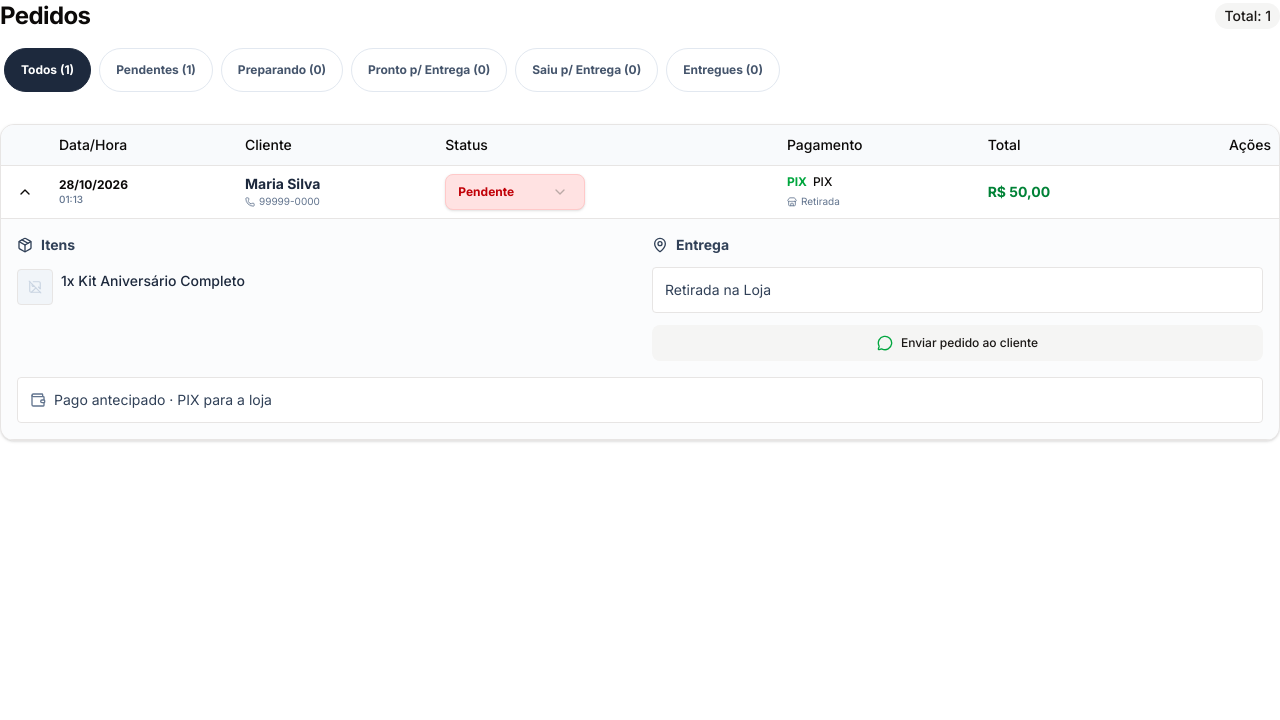
Scenario: OrdersTab — item do pedido abre produto do item (issue #73) › item composto sem produto único (CUSTOM_KIT) não quebra: abre um fallback com os componentes, sem tentar abrir o ProductInfoModal
Expected: the text "1x Kit Aniversário Completo" is shown, [61,272,245,288]
Click the button "1x Kit Aniversário Completo". click: (35, 286)
box: [13,266,624,312]
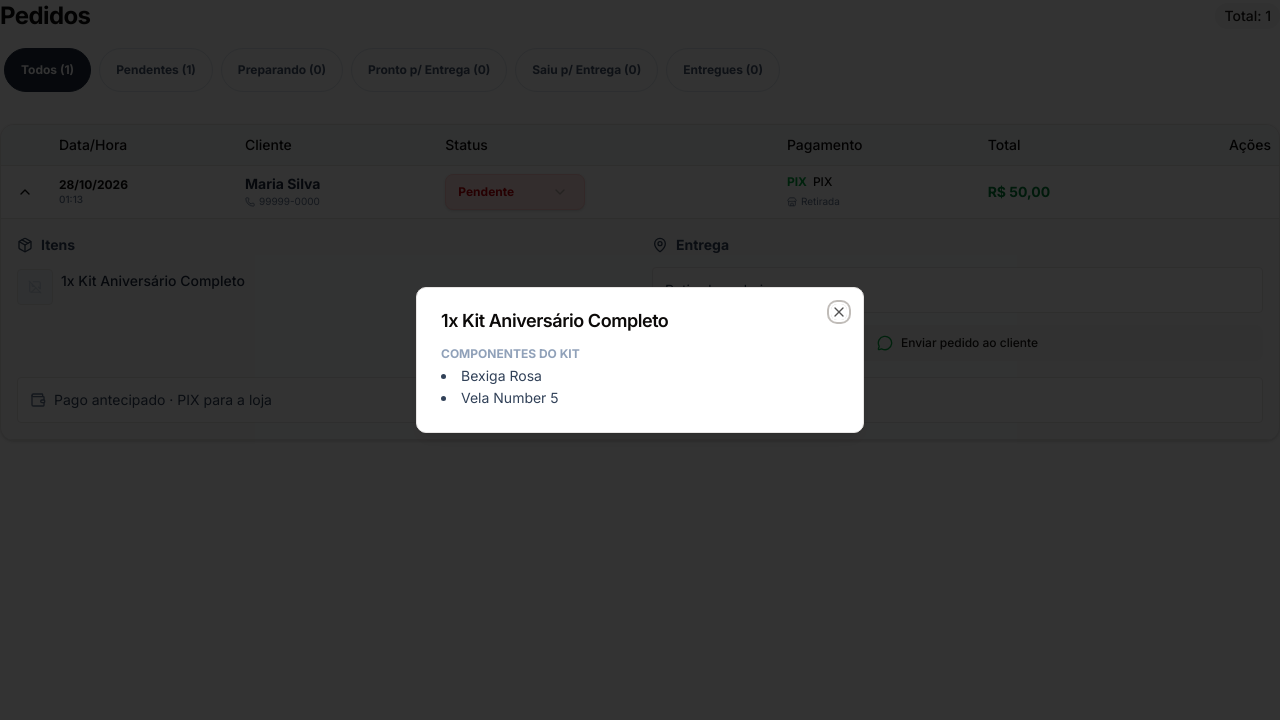
Now the text "Componentes do kit" is shown, box [441,346,580,361]
Now the list item "Bexiga Rosa" is shown, box [461,367,542,384]
Now the list item "Vela Number 5" is shown, box [461,389,559,406]
